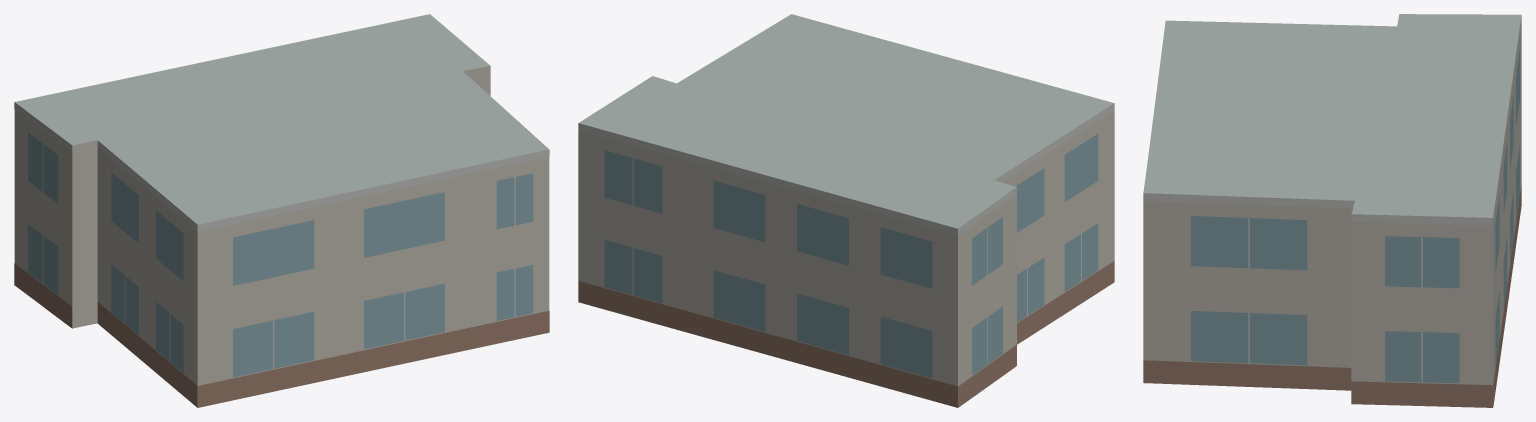
Rendered from survey-upis-32587730.glb.
3 renders of one model, left to right at view 1: azimuth 30°, elevation 25°; view 2: azimuth 150°, elevation 25°; view 3: azimuth 270°, elevation 25°, orthographic. The views are drawn at different scales.
Parts seen in each view (by area): view 1: survey-upis-32587730.tmp; view 2: survey-upis-32587730.tmp; view 3: survey-upis-32587730.tmp.
Part boxes in pixels (bbox=[...]): survey-upis-32587730.tmp: bbox=[14, 14, 549, 407]; survey-upis-32587730.tmp: bbox=[578, 14, 1114, 407]; survey-upis-32587730.tmp: bbox=[1143, 14, 1521, 407].
Size of the model in its own units: 14.06 by 6.1 by 11.02.
